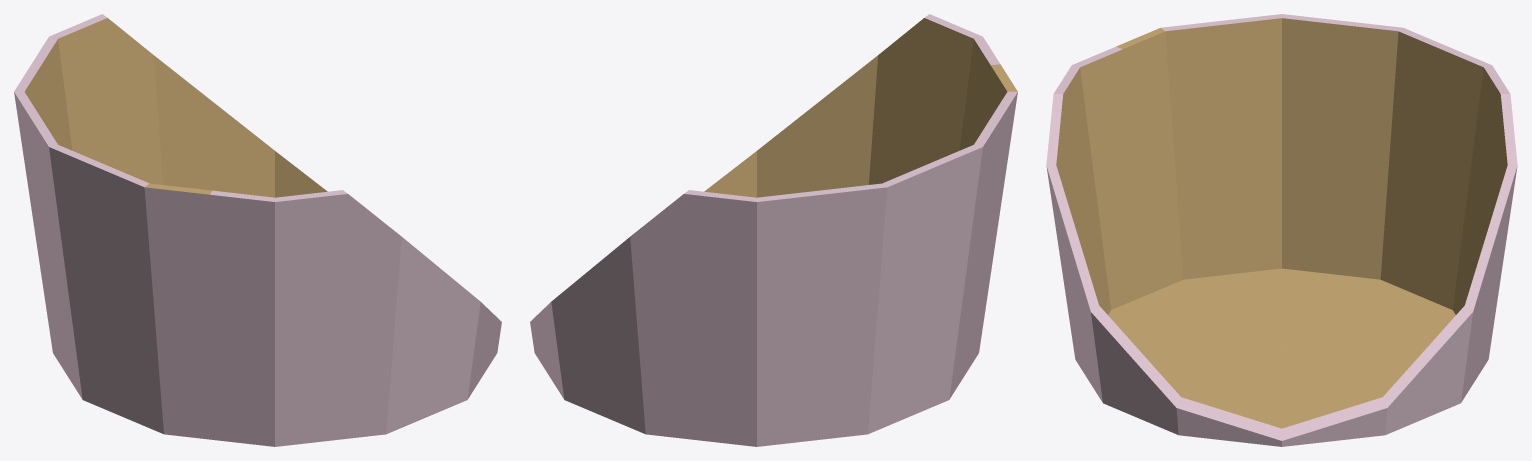
The model's file is cupcakeHOUSEcut.fbx.
3 renders of one model, left to right at view 1: azimuth 30°, elevation 25°; view 2: azimuth 150°, elevation 25°; view 3: azimuth 270°, elevation 25°, orthographic. The views are drawn at different scales.
Parts seen in each view (by area): view 1: base.001; view 2: base.001; view 3: base.001.
Part boxes in pixels (x1,y1,x2,y2): base.001: (14, 14, 501, 446); base.001: (530, 14, 1017, 446); base.001: (1046, 14, 1517, 446).
Size of the model in its own units: 536 by 319 by 561.
